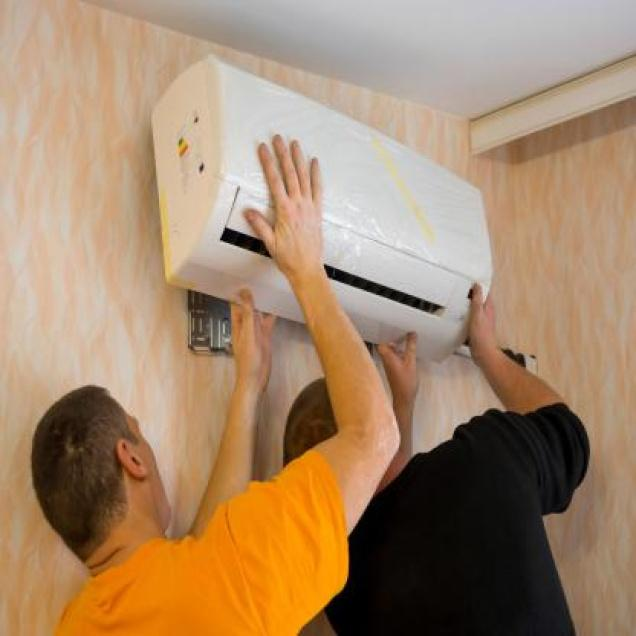AC: (149, 53, 492, 365)
